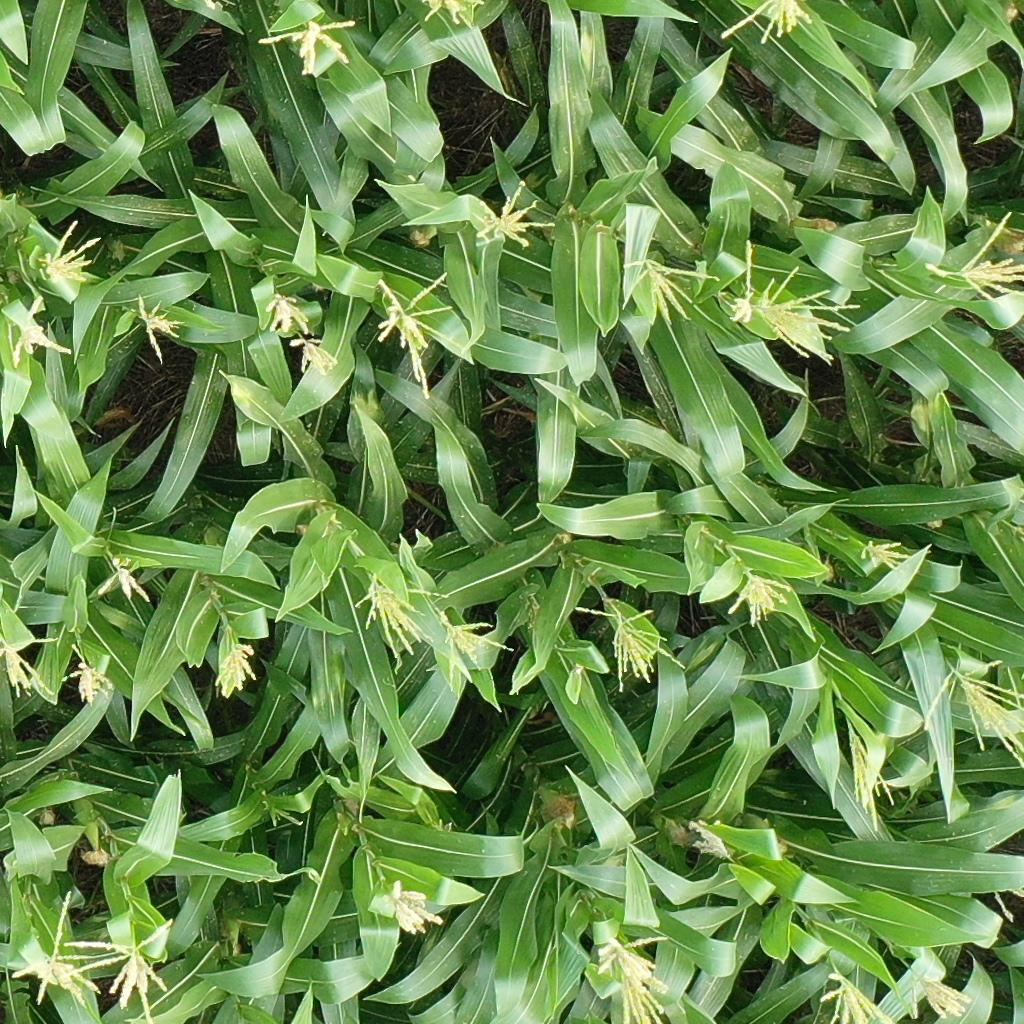Tassel: (57, 916, 177, 1024), (917, 654, 1024, 767), (369, 272, 457, 405), (572, 600, 688, 696), (754, 263, 862, 365), (7, 890, 101, 1004), (926, 212, 1024, 307), (354, 573, 445, 664), (844, 718, 904, 836), (593, 931, 667, 1024), (618, 257, 720, 323), (254, 16, 361, 78), (436, 615, 513, 696), (474, 180, 559, 252), (12, 293, 74, 369), (34, 219, 105, 283), (818, 967, 897, 1024), (1, 630, 62, 701), (720, 1, 814, 46), (904, 960, 973, 1021), (723, 571, 794, 629), (378, 876, 445, 936), (129, 293, 186, 363), (63, 642, 119, 710), (211, 639, 262, 699), (258, 290, 313, 344), (725, 239, 757, 327), (97, 555, 152, 606), (683, 818, 735, 865), (285, 333, 338, 376), (857, 535, 914, 573), (418, 1, 483, 25), (992, 885, 1024, 924), (265, 804, 305, 831)
